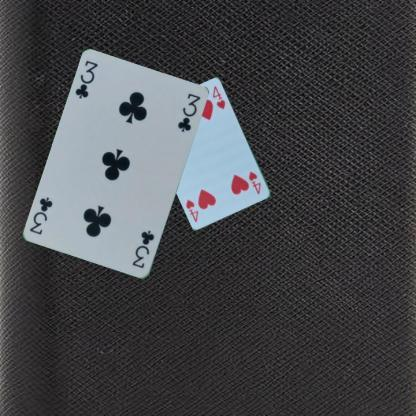3c: (72, 58, 100, 100), (129, 228, 156, 270)
4h: (246, 169, 262, 196)
